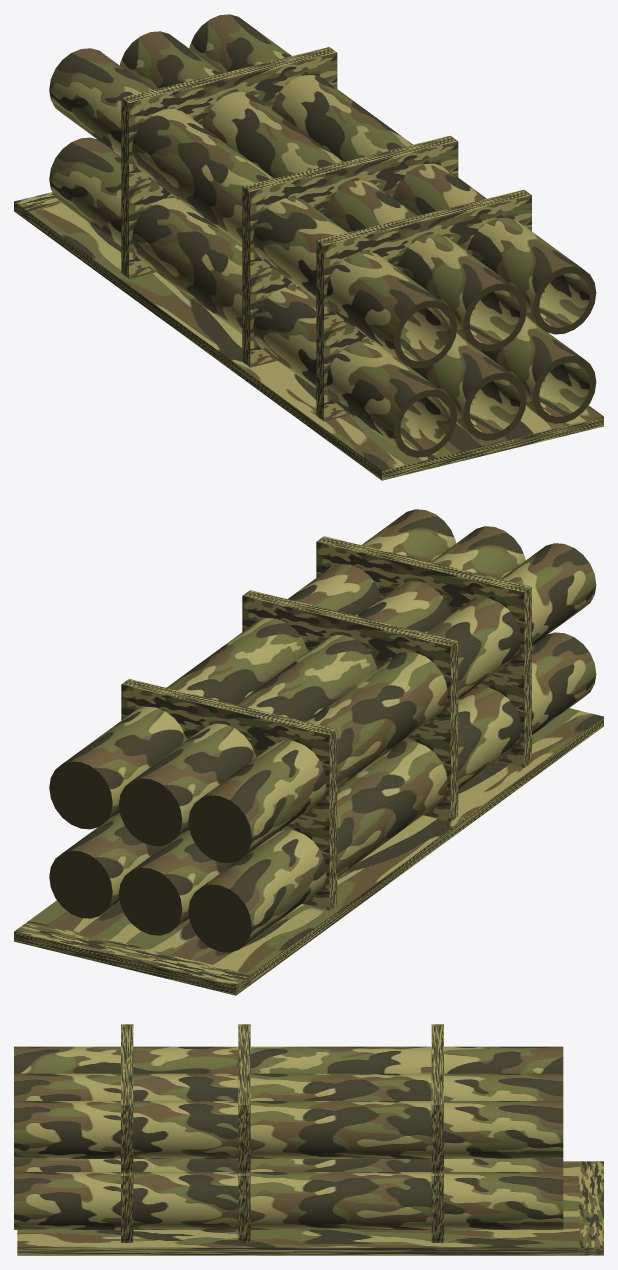
Rendered from pedestal.fbx.
3 renders of one model, top to bottom at view 1: azimuth 30°, elevation 25°; view 2: azimuth 150°, elevation 25°; view 3: azimuth 270°, elevation 25°, orthographic. The views are drawn at different scales.
Visible parts, largest first — view 1: sdef:pedestal; view 2: sdef:pedestal; view 3: sdef:pedestal.
Boxes of the visible parts, box(x1,y1,x2,y2) form: sdef:pedestal: box(14, 14, 603, 480); sdef:pedestal: box(14, 509, 603, 995); sdef:pedestal: box(14, 1024, 603, 1255).
Bounding box in the file's own units: 200 × 159 × 577.
Materials: 1 (1 with a texture image).
